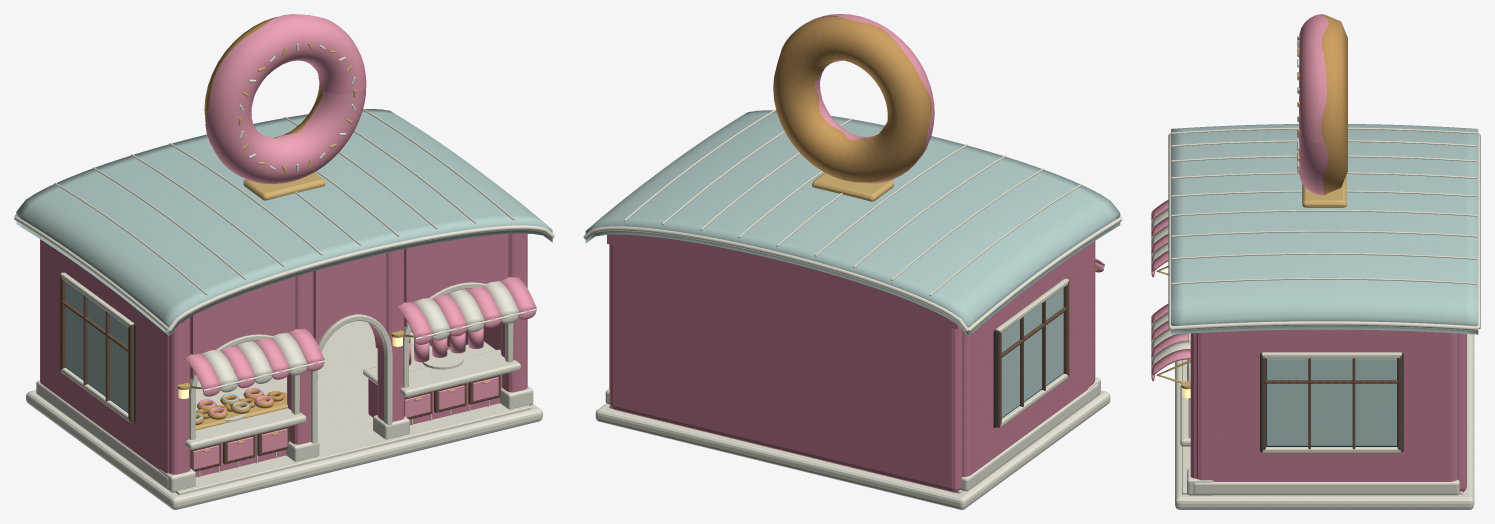
The model's file is atelier-donut.glb.
The picture shows the model from 3 angles, left to right: view 1: azimuth 30°, elevation 25°; view 2: azimuth 150°, elevation 25°; view 3: azimuth 270°, elevation 25°; orthographic projection.
Visible parts, largest first — view 1: Atelier_donut_Sculpted_PatisserieRoof, Finish_donut_Donut_FlowingGlaze, Atelier_donut_Rounded_ReturnWall, Atelier_donut_Inset_TerrazzoFloor, Atelier_donut_Stone_Foundation, Atelier_donut_Sculpted_ArchSpandrel.002, Atelier_donut_Sculpted_ArchSpandrel, Finish_donut_Side_GlazedInset, Atelier_donut_Sculpted_ArchSpandrel.001, Atelier_donut_Facade_Pier, Atelier_donut_Facade_Pier.003, Atelier_donut_Deep_DisplaySill.001 (+30 smaller); view 2: Atelier_donut_Plaster_BackWall, Atelier_donut_Sculpted_PatisserieRoof, donut_Donut_GoldenDough_39.001, Atelier_donut_Rounded_ReturnWall, Atelier_donut_Stone_Foundation, Finish_donut_Fitted_RearRoofInfill, Finish_donut_Side_GlazedInset, Finish_donut_Continuous_EaveBeading.001, Atelier_donut_Stone_Skirt, Finish_donut_Donut_FlowingGlaze, donut_Shared_RooftopMount_77.001, Finish_donut_Side_EaveBeading (+3 smaller); view 3: Atelier_donut_Sculpted_PatisserieRoof, Atelier_donut_Rounded_ReturnWall.001, Finish_donut_Side_GlazedInset.001, Atelier_donut_Stone_Foundation, Finish_donut_Donut_FlowingGlaze, donut_Donut_GoldenDough_39.001, Atelier_donut_Stone_Skirt.001, Finish_donut_Side_EaveBeading.001, Atelier_donut_Plaster_BackWall, Atelier_donut_Facade_Pier.002, Finish_donut_Side_WindowRail.003, Finish_donut_Side_WindowRail.002 (+19 smaller).
Part boxes in pixels (x1=…): Atelier_donut_Sculpted_PatisserieRoof: x1=16, y1=109, x2=552, y2=335; Finish_donut_Donut_FlowingGlaze: x1=205, y1=14, x2=366, y2=184; Atelier_donut_Rounded_ReturnWall: x1=40, y1=239, x2=169, y2=473; Atelier_donut_Inset_TerrazzoFloor: x1=175, y1=321, x2=531, y2=494; Atelier_donut_Stone_Foundation: x1=26, y1=390, x2=542, y2=509; Atelier_donut_Sculpted_ArchSpandrel.002: x1=404, y1=234, x2=508, y2=326; Atelier_donut_Sculpted_ArchSpandrel: x1=190, y1=277, x2=295, y2=378; Finish_donut_Side_GlazedInset: x1=65, y1=282, x2=128, y2=412; Atelier_donut_Sculpted_ArchSpandrel.001: x1=313, y1=253, x2=385, y2=352; Atelier_donut_Facade_Pier: x1=169, y1=317, x2=190, y2=474; Atelier_donut_Facade_Pier.003: x1=377, y1=249, x2=404, y2=421; Atelier_donut_Deep_DisplaySill.001: x1=400, y1=349, x2=520, y2=397; Atelier_donut_Plaster_BackWall: x1=609, y1=234, x2=962, y2=492; Atelier_donut_Sculpted_PatisserieRoof: x1=585, y1=110, x2=1120, y2=336; donut_Donut_GoldenDough_39.001: x1=773, y1=16, x2=931, y2=182; Atelier_donut_Rounded_ReturnWall: x1=962, y1=241, x2=1094, y2=476; Atelier_donut_Stone_Foundation: x1=595, y1=390, x2=1110, y2=509; Finish_donut_Fitted_RearRoofInfill: x1=607, y1=234, x2=959, y2=329; Finish_donut_Side_GlazedInset: x1=1001, y1=288, x2=1063, y2=417; Finish_donut_Continuous_EaveBeading.001: x1=583, y1=226, x2=968, y2=331; Atelier_donut_Stone_Skirt: x1=961, y1=383, x2=1098, y2=491; Finish_donut_Donut_FlowingGlaze: x1=780, y1=14, x2=934, y2=183; donut_Shared_RooftopMount_77.001: x1=812, y1=173, x2=893, y2=201; Finish_donut_Side_EaveBeading: x1=968, y1=217, x2=1122, y2=332; Atelier_donut_Sculpted_PatisserieRoof: x1=1171, y1=124, x2=1478, y2=334; Atelier_donut_Rounded_ReturnWall.001: x1=1196, y1=329, x2=1457, y2=481; Finish_donut_Side_GlazedInset.001: x1=1266, y1=358, x2=1396, y2=445; Atelier_donut_Stone_Foundation: x1=1175, y1=334, x2=1474, y2=509; Finish_donut_Donut_FlowingGlaze: x1=1299, y1=14, x2=1328, y2=195; donut_Donut_GoldenDough_39.001: x1=1321, y1=14, x2=1347, y2=194; Atelier_donut_Stone_Skirt.001: x1=1193, y1=479, x2=1459, y2=495; Finish_donut_Side_EaveBeading.001: x1=1170, y1=321, x2=1478, y2=330; Atelier_donut_Plaster_BackWall: x1=1457, y1=333, x2=1466, y2=492; Atelier_donut_Facade_Pier.002: x1=1190, y1=333, x2=1196, y2=478; Finish_donut_Side_WindowRail.003: x1=1261, y1=352, x2=1401, y2=358; Finish_donut_Side_WindowRail.002: x1=1262, y1=447, x2=1401, y2=453.
Bounding box in the file's own units: 11.13 × 10.86 × 8.15.
9 materials, 7 textured.
